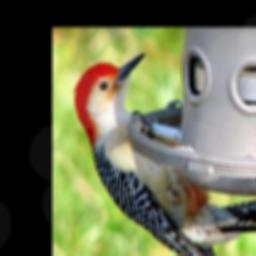Woodpecker: (74, 52, 256, 256)
